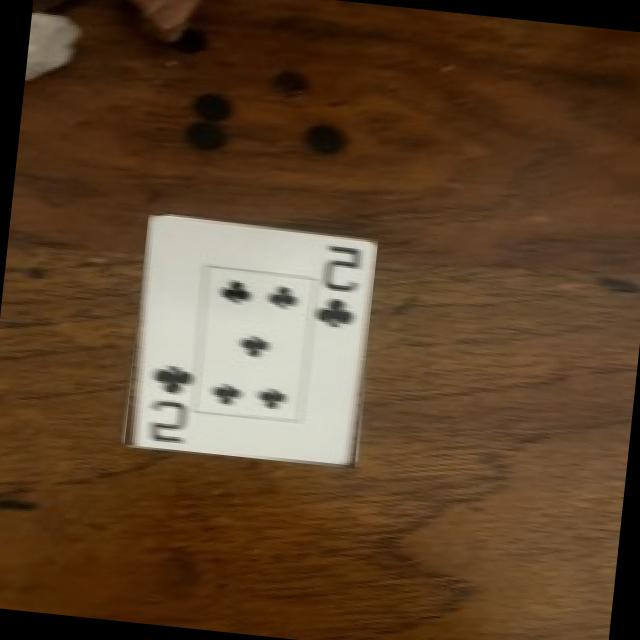5 of clubs: (133, 216, 376, 463)
